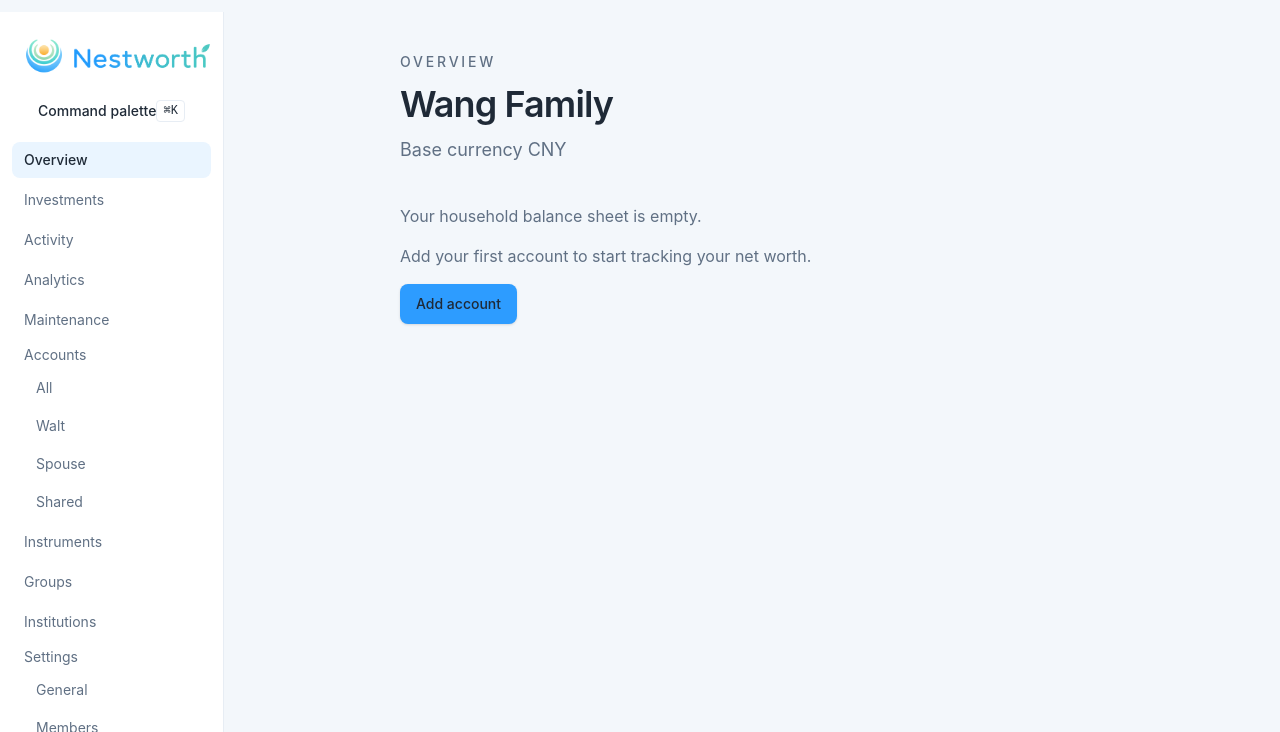
Scenario: account timeline › renders backend order and classifications without inference
Expected: the navigation bar named "Household" is shown, [0,12,224,731]
Click the link "Accounts" at (55, 354), box [24,346,86,363]
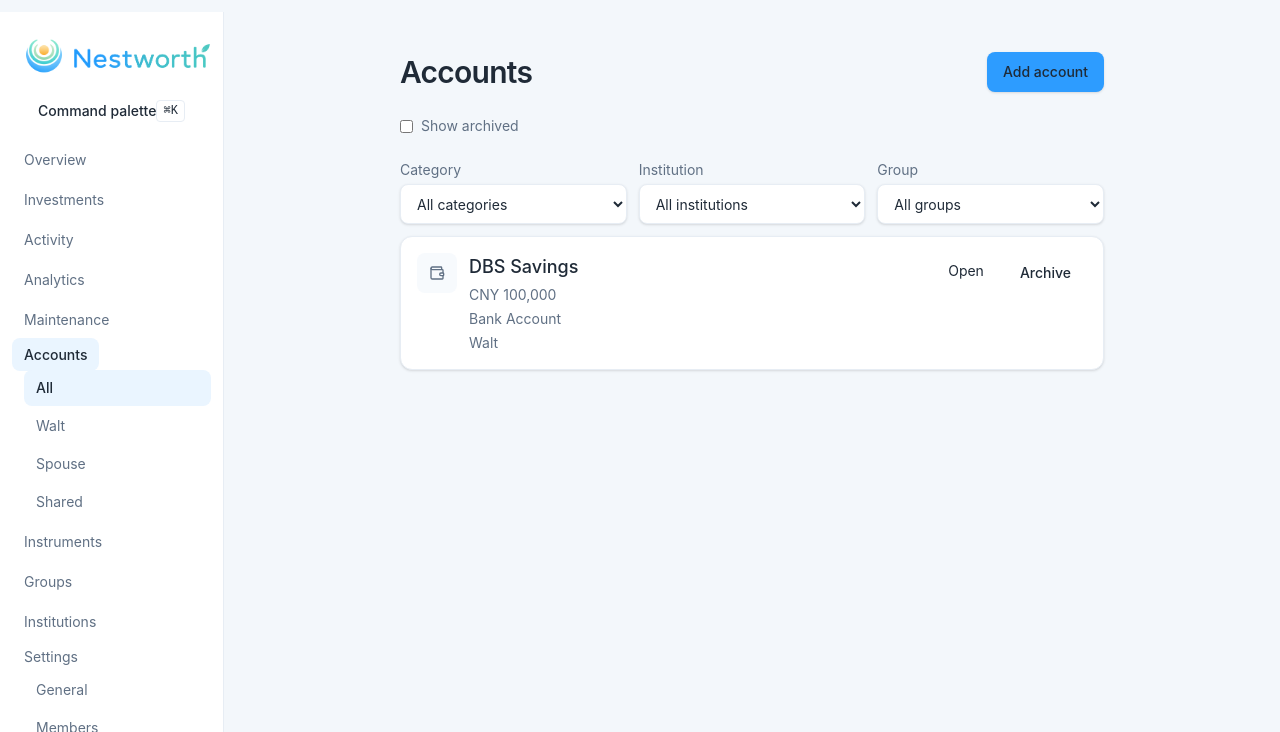
Click the link "Open" at (966, 270), box [948,262,984,279]
(page scrolled)
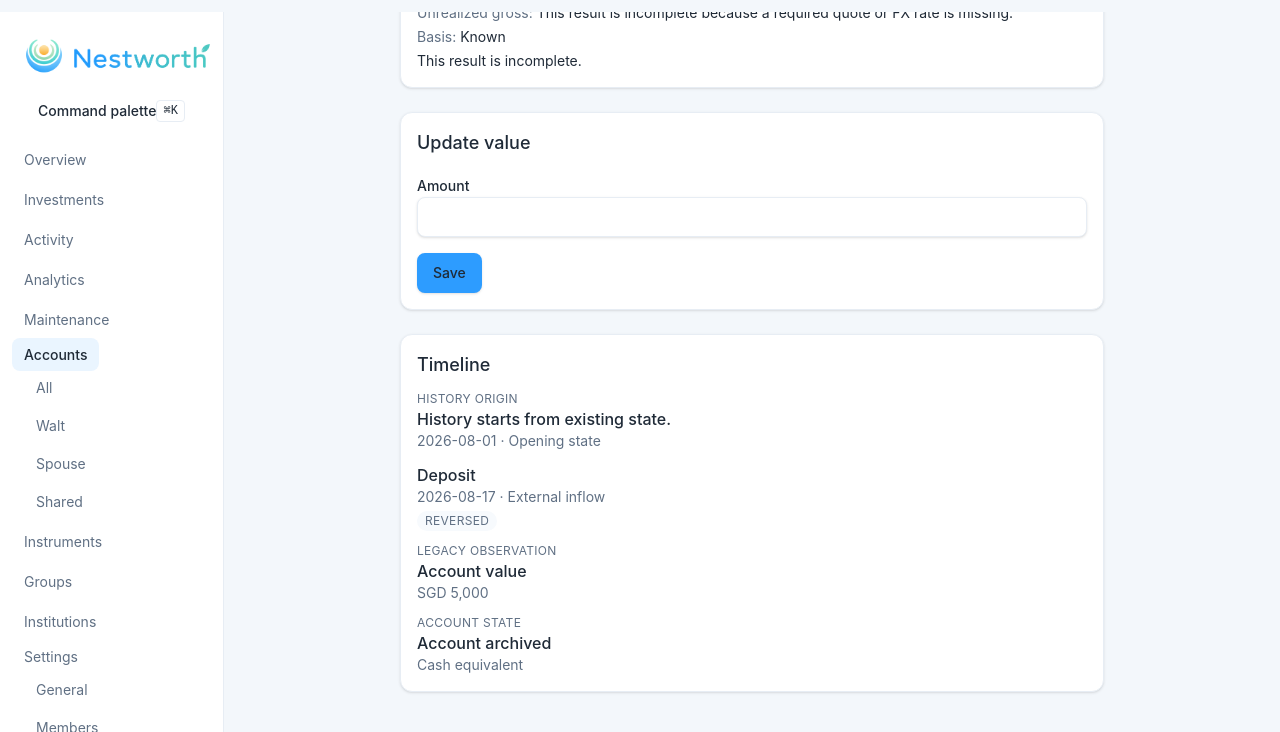
Now the heading "Timeline" is shown, box [417,354,490,375]
Now the text "History starts from existing state." is shown, box [417,409,671,429]
Now the text "SGD 5,000" is shown, box [417,584,489,601]
